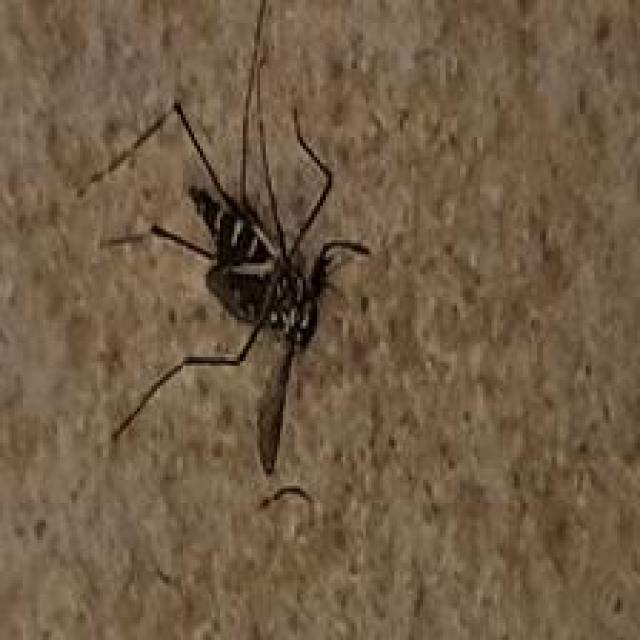Aedes albopictus: (76, 0, 373, 509)
